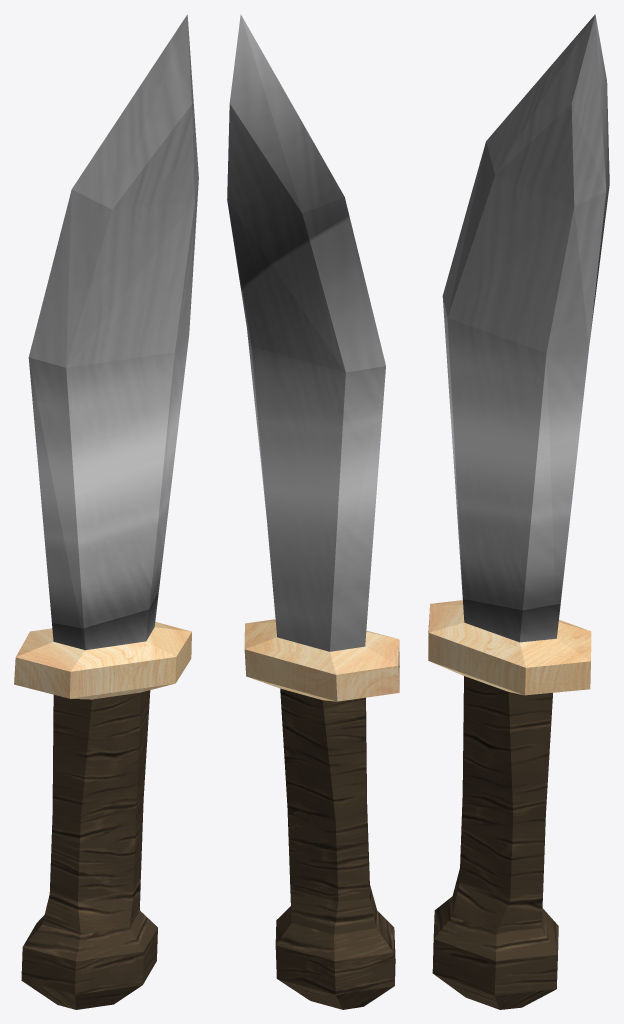
Rendered from dagger.fbx.
The picture shows the model from 3 angles, left to right: view 1: azimuth 30°, elevation 25°; view 2: azimuth 150°, elevation 25°; view 3: azimuth 330°, elevation 25°; orthographic projection. The views are drawn at different scales.
Visible parts, largest first — view 1: pPlane7; view 2: pPlane7; view 3: pPlane7.
Boxes of the visible parts, box(x1,y1,x2,y2) form: pPlane7: box(14, 14, 198, 1009); pPlane7: box(227, 14, 399, 1009); pPlane7: box(428, 14, 609, 1009).
Size of the model in its own units: 0.7346 by 3.82 by 0.4214.
3 materials, 3 textured.
